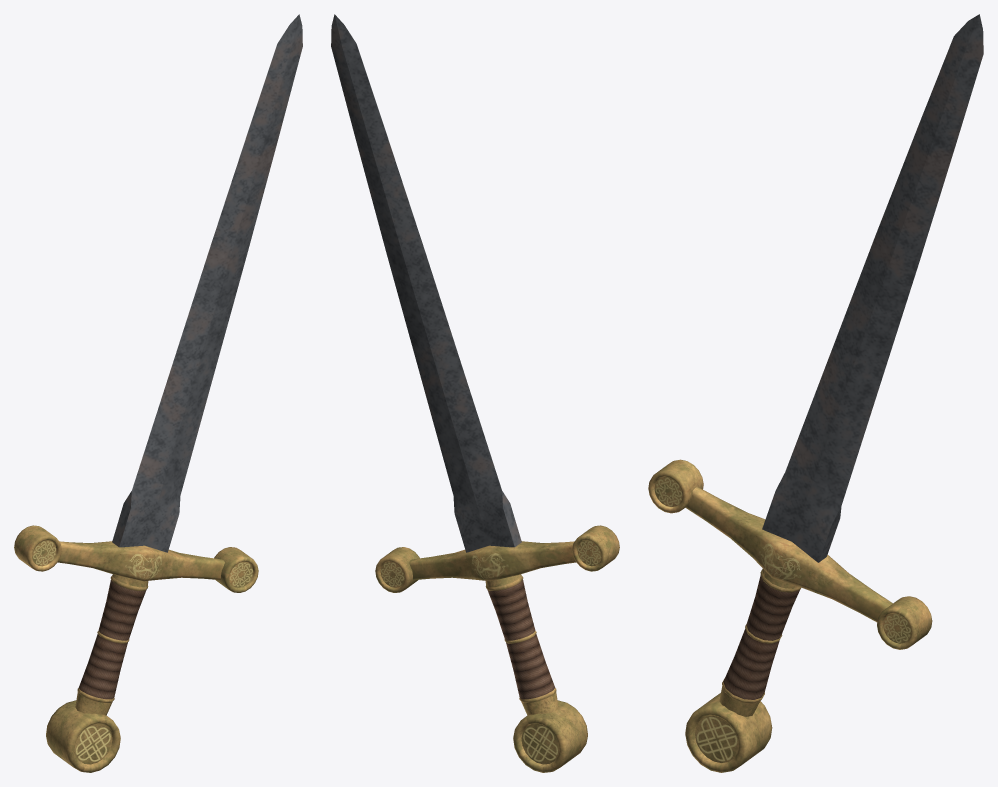
Rendered from Genesis_Sword_Iron_V03_V175_V12B_PBR_WebGL_CANDIDATE.glb.
3 renders of one model, left to right at view 1: azimuth 30°, elevation 25°; view 2: azimuth 150°, elevation 25°; view 3: azimuth 330°, elevation 25°, orthographic. The views are drawn at different scales.
Visible parts, largest first — view 1: defaultMaterial; view 2: defaultMaterial; view 3: defaultMaterial.
Part boxes in pixels (x1,y1,x2,y2): defaultMaterial: [14, 14, 302, 772]; defaultMaterial: [331, 14, 619, 772]; defaultMaterial: [648, 14, 983, 772].
Bounding box in the file's own units: 0.8033 × 1.9 × 0.1228.
Materials: 2 (2 with a texture image).
